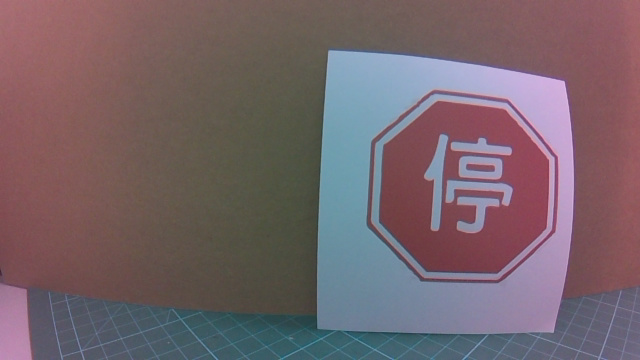stop: (360, 89, 546, 295)
